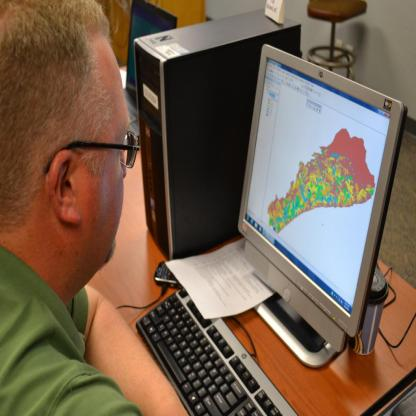board: (122, 0, 177, 138), (352, 265, 388, 354)
